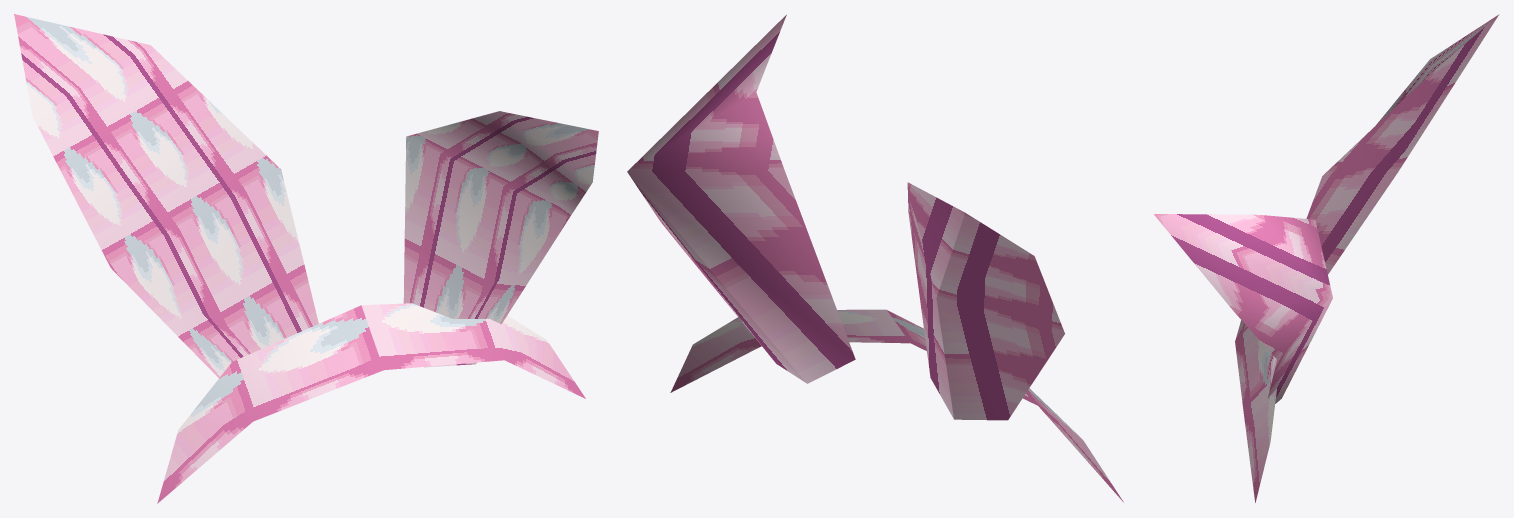
The model's file is code_head76.gltf.
The picture shows the model from 3 angles, left to right: view 1: azimuth 30°, elevation 25°; view 2: azimuth 150°, elevation 25°; view 3: azimuth 270°, elevation 25°; orthographic projection. The views are drawn at different scales.
Parts seen in each view (by area): view 1: code_head76; view 2: code_head76; view 3: code_head76.
Boxes of the visible parts, x1,y1,x2,y2 form: code_head76: (14,14,598,503); code_head76: (627,14,1123,502); code_head76: (1154,14,1499,502).
Bounding box in the file's own units: 0.6523 × 0.5298 × 0.5239.
1 material, 1 textured.
